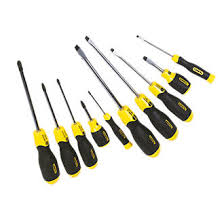screwdriver: (12, 31, 224, 181)
